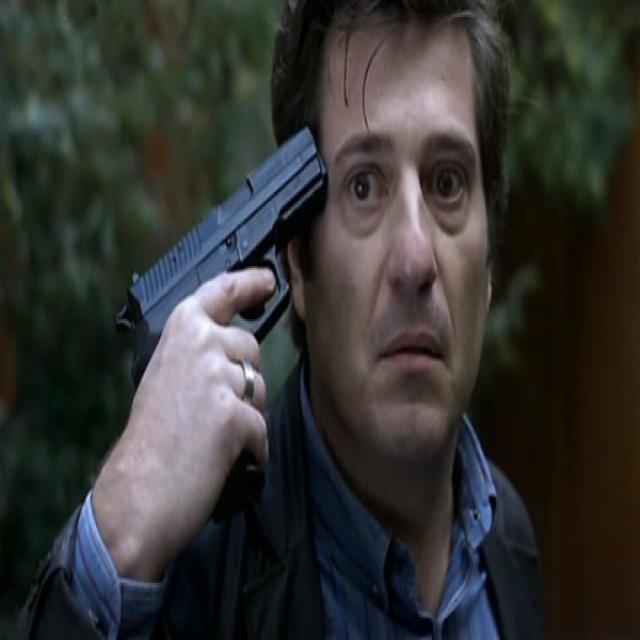weapons: (112, 103, 328, 506)
